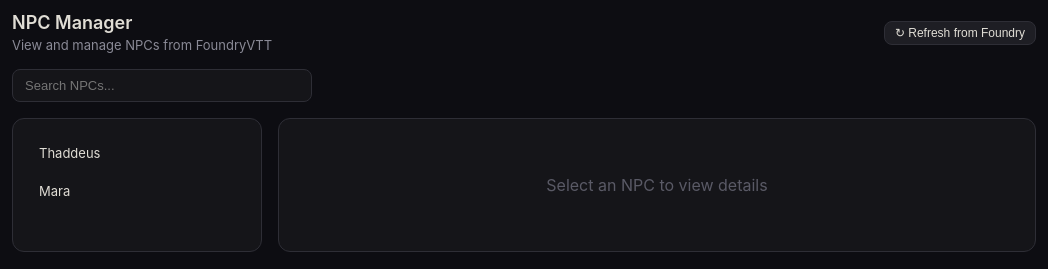
Test: NPCManager › filters by name, case-insensitively
This screenshot has width=1048, height=269.
Type "mar" into the field with placeholder "Search NPCs..." at (162, 86), box 12,69 -> 312,102
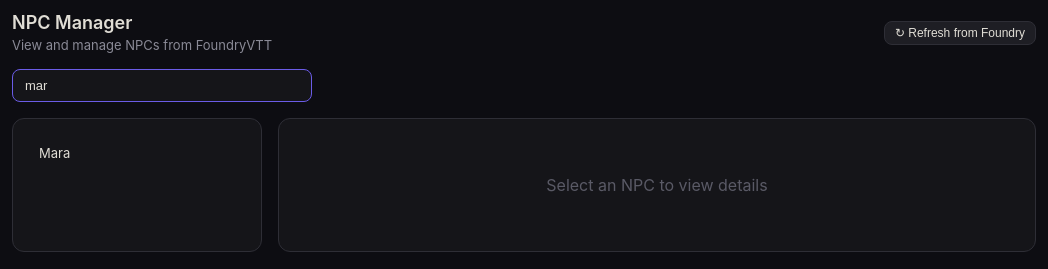
Now the button "Mara" is shown, box 29,135 -> 245,171
Now the button "Thaddeus" is gone
